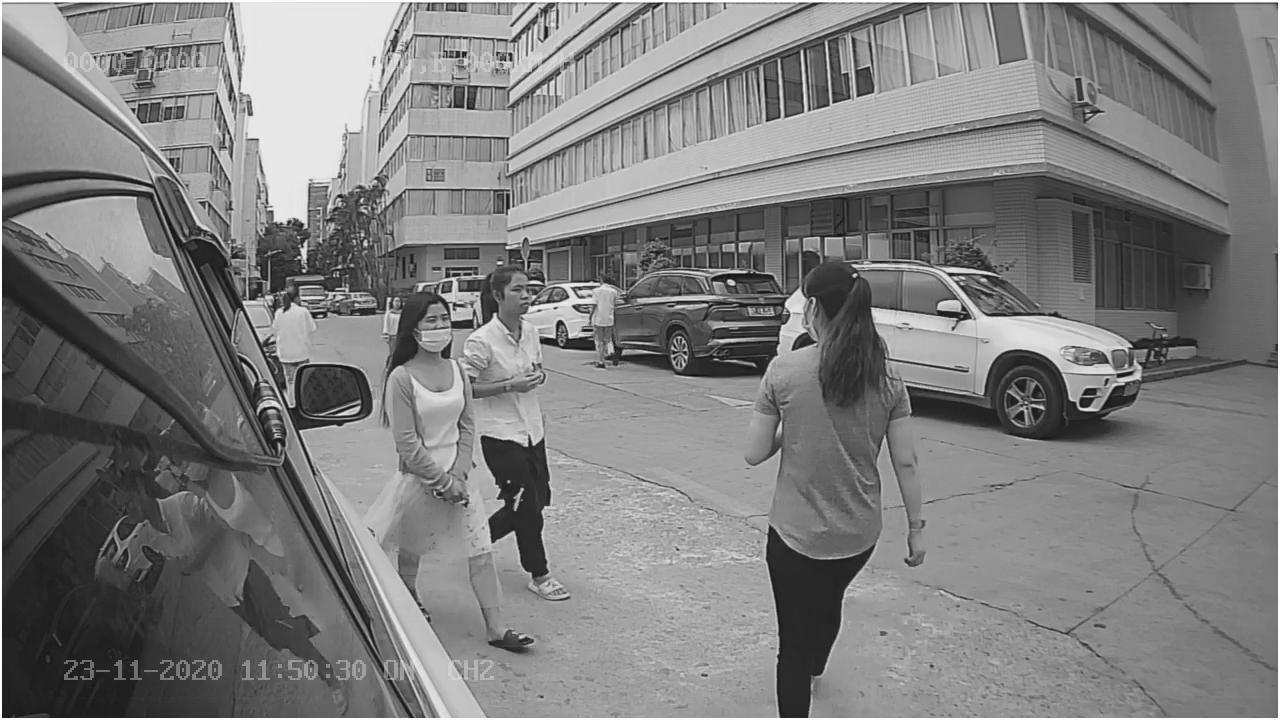person: (744, 246, 928, 582), (378, 287, 477, 524)
